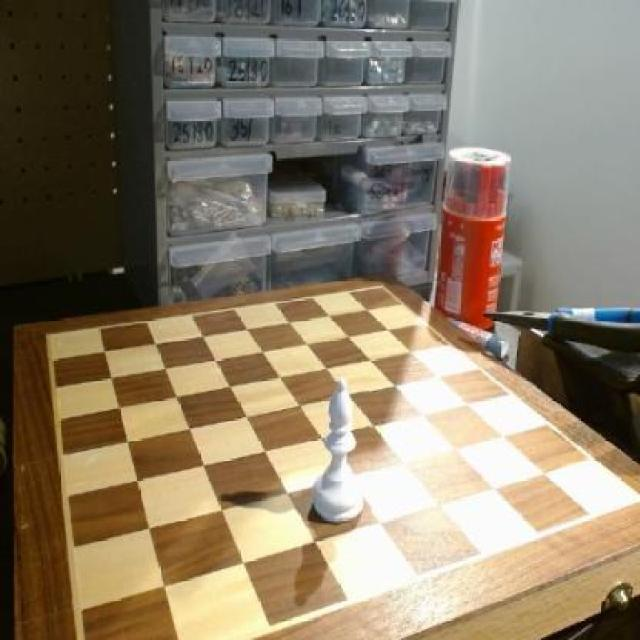black-rook: (306, 375, 371, 533)
